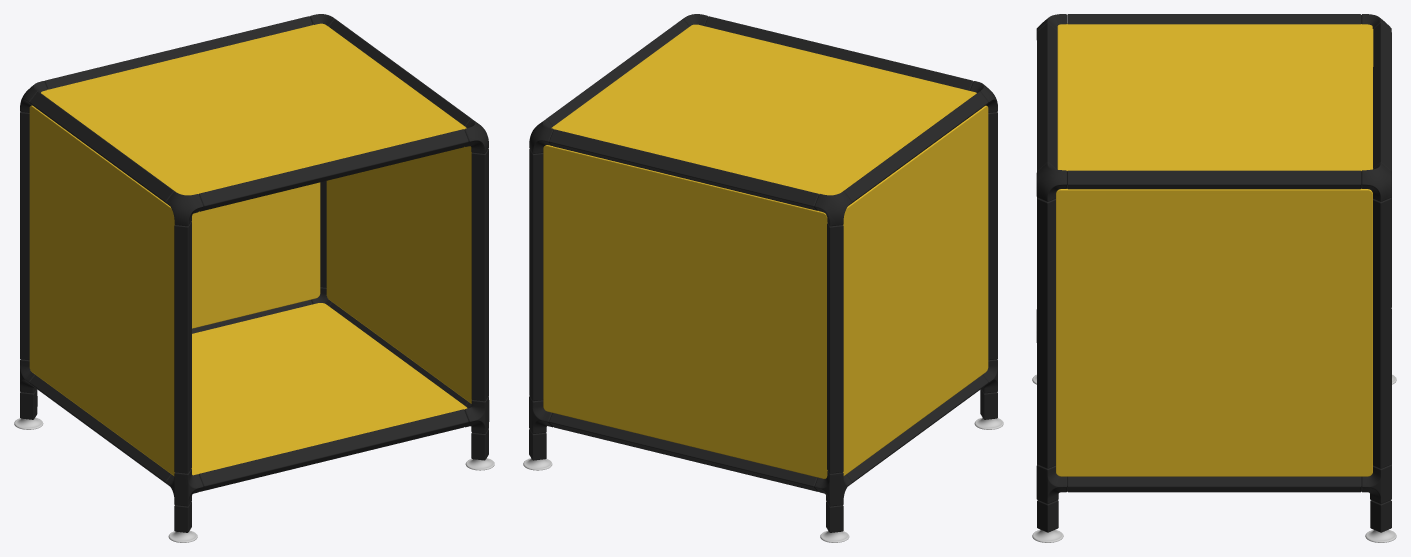
The picture shows the model from 3 angles, left to right: view 1: azimuth 30°, elevation 25°; view 2: azimuth 150°, elevation 25°; view 3: azimuth 270°, elevation 25°; orthographic projection. The views are drawn at different scales.
Parts seen in each view (by area): view 1: 420x374x374; view 2: 420x374x374; view 3: 420x374x374.
Part boxes in pixels (x1,y1,x2,y2): 420x374x374: (14,14,494,542); 420x374x374: (523,14,1003,542); 420x374x374: (1032,14,1396,542).
Bounding box in the file's own units: 0.5099 × 0.5133 × 0.4632.
